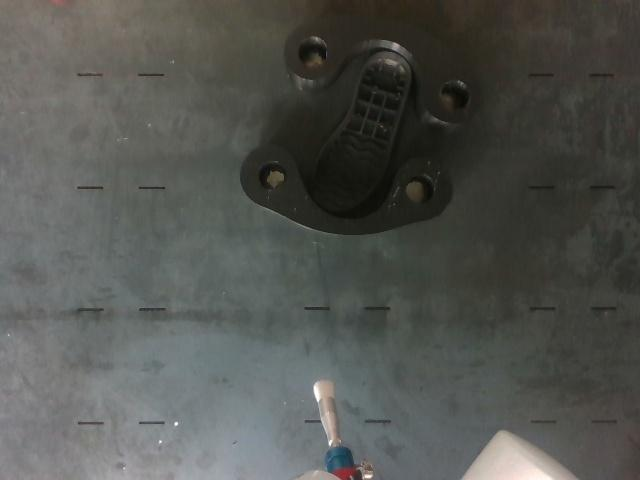shoes: (313, 53, 409, 212)
